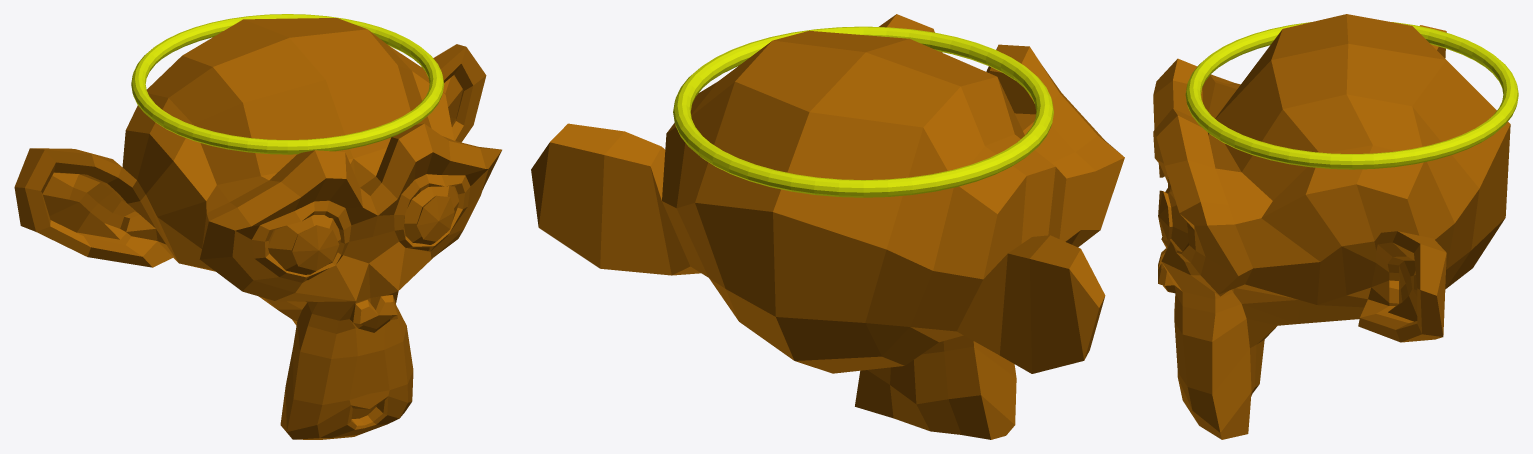
File: monkey_head_ring.gltf
3 renders of one model, left to right at view 1: azimuth 30°, elevation 25°; view 2: azimuth 150°, elevation 25°; view 3: azimuth 270°, elevation 25°, orthographic. The views are drawn at different scales.
Visible parts, largest first — view 1: Suzanne, Torus; view 2: Suzanne, Torus; view 3: Suzanne, Torus.
Part boxes in pixels (x1,y1,x2,y2): Suzanne: (14, 18, 501, 439); Torus: (131, 14, 444, 154); Suzanne: (531, 14, 1124, 439); Torus: (673, 26, 1053, 197); Suzanne: (1153, 14, 1510, 439); Torus: (1185, 22, 1518, 169).
Bounding box in the file's own units: 2.73 × 1.97 × 1.74.
